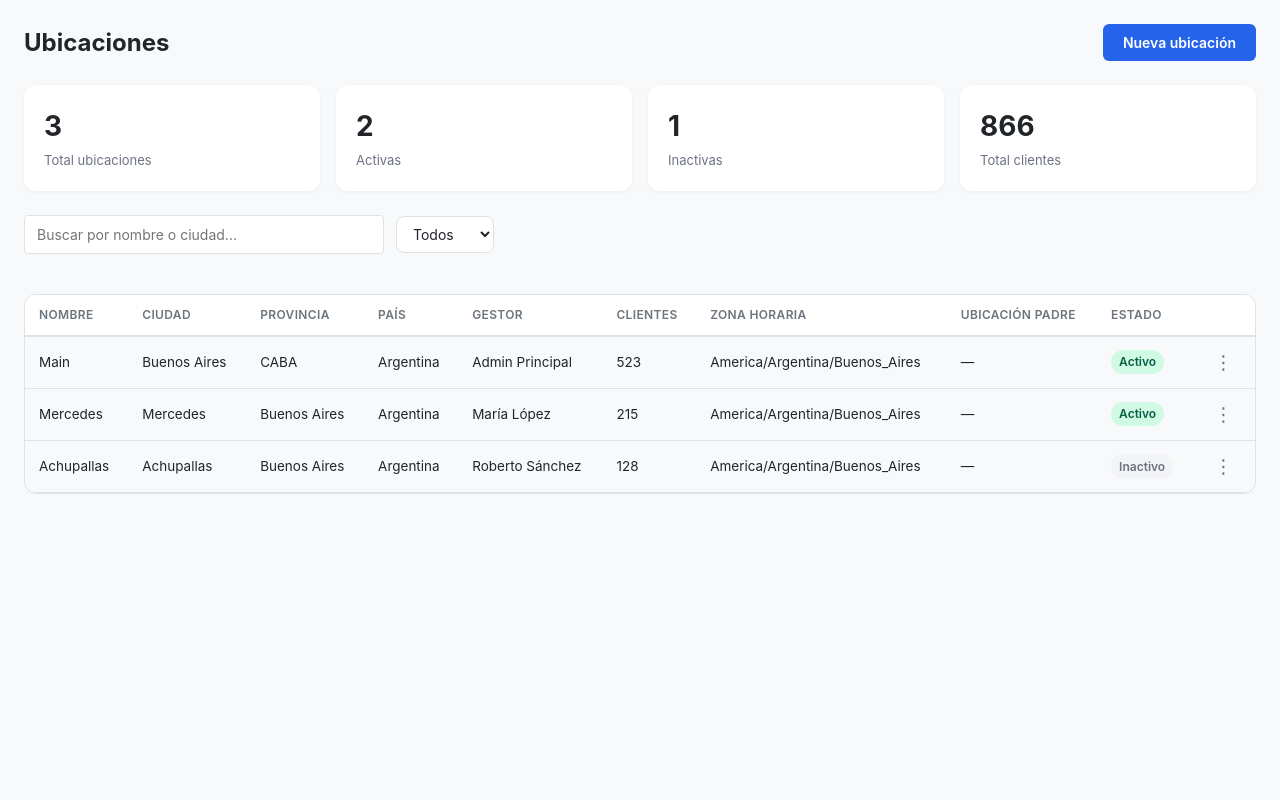
Scenario: LocationsPage › clicking "Nueva ubicación" shows form
Click the button "Nueva ubicación" at (1179, 42), box top-left (1103, 24), bottom-right (1256, 61)
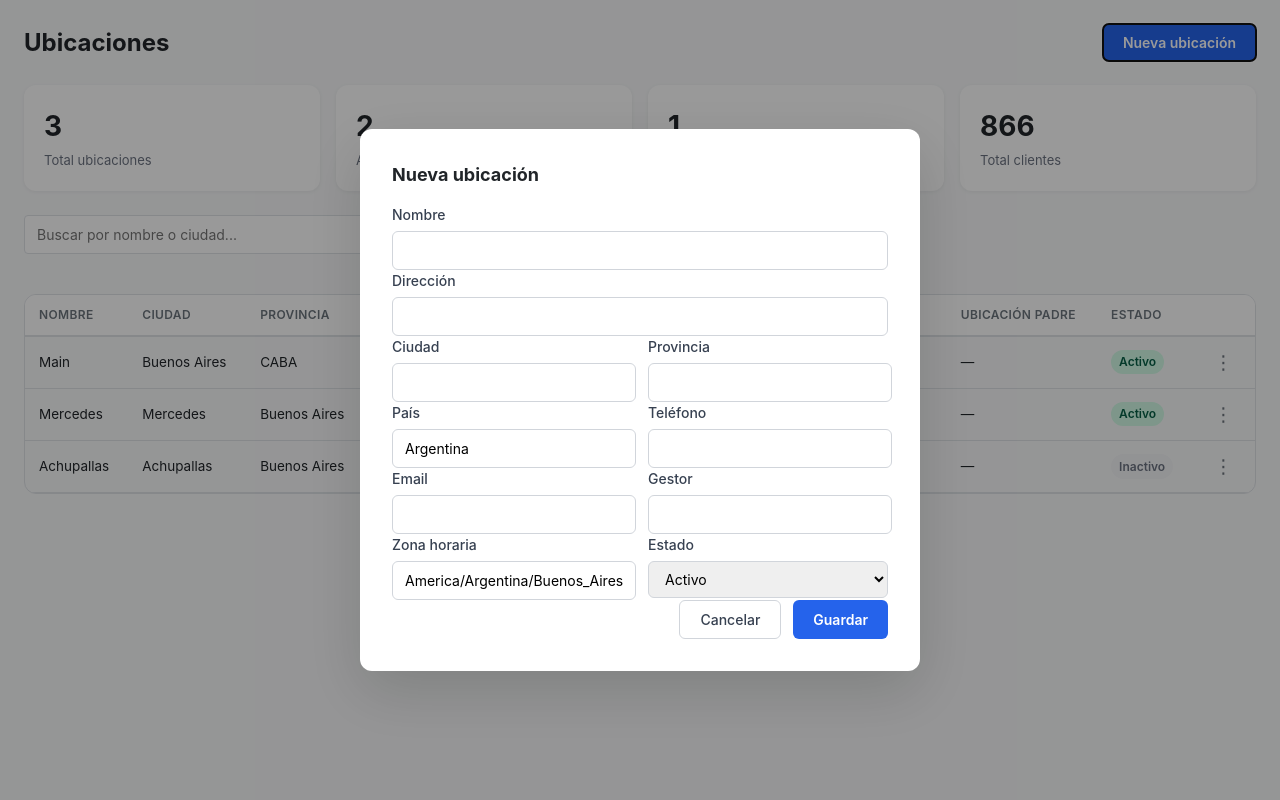
Now the dialog is shown, box top-left (360, 129), bottom-right (920, 671)
